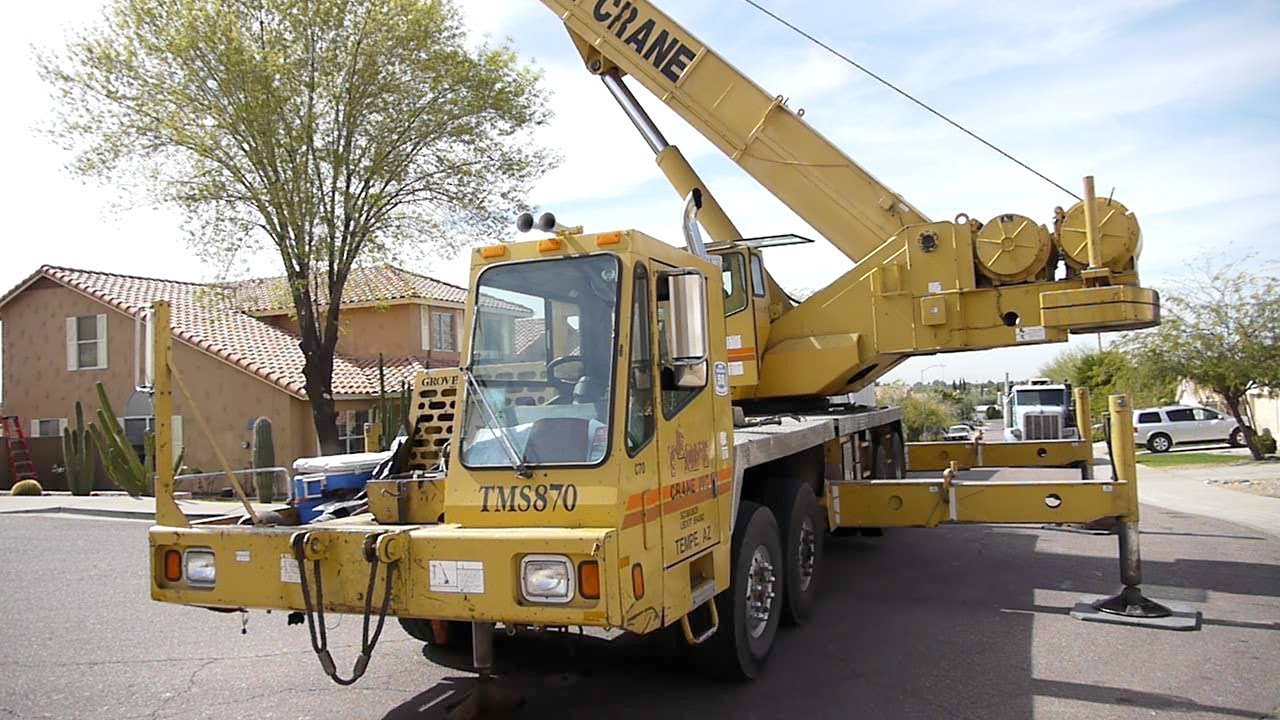crane: (151, 1, 1160, 687)
